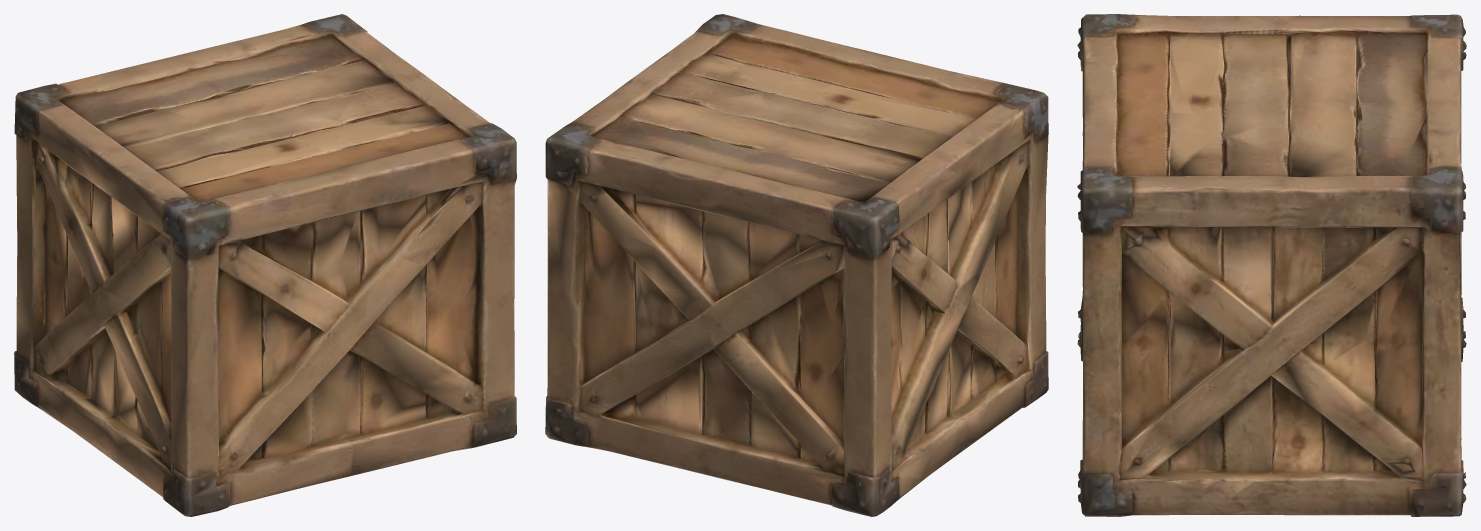
Rendered from crate.lod1.glb.
3 renders of one model, left to right at view 1: azimuth 30°, elevation 25°; view 2: azimuth 150°, elevation 25°; view 3: azimuth 270°, elevation 25°, orthographic. The views are drawn at different scales.
Visible parts, largest first — view 1: tripo_node_6bb3cd77-2008-4abe-96fb-486569e49719; view 2: tripo_node_6bb3cd77-2008-4abe-96fb-486569e49719; view 3: tripo_node_6bb3cd77-2008-4abe-96fb-486569e49719.
Part boxes in pixels (x1=…): tripo_node_6bb3cd77-2008-4abe-96fb-486569e49719: x1=14, y1=14, x2=516, y2=516; tripo_node_6bb3cd77-2008-4abe-96fb-486569e49719: x1=545, y1=14, x2=1048, y2=516; tripo_node_6bb3cd77-2008-4abe-96fb-486569e49719: x1=1077, y1=14, x2=1466, y2=516.
Bounding box in the file's own units: 0.6948 × 0.6 × 0.6329.
1 material, 1 textured.
